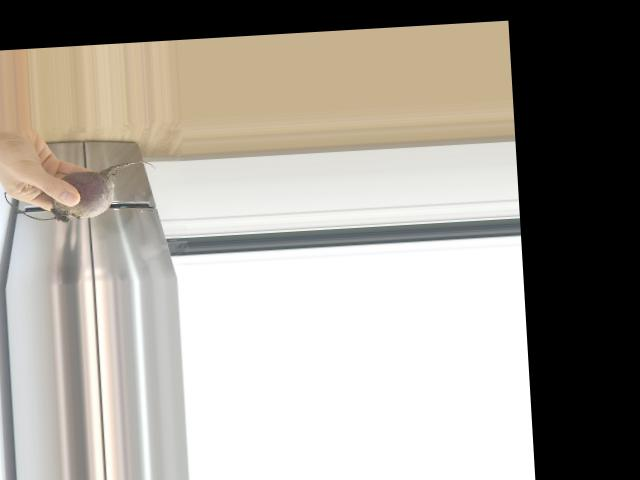beet: (3, 159, 159, 225)
